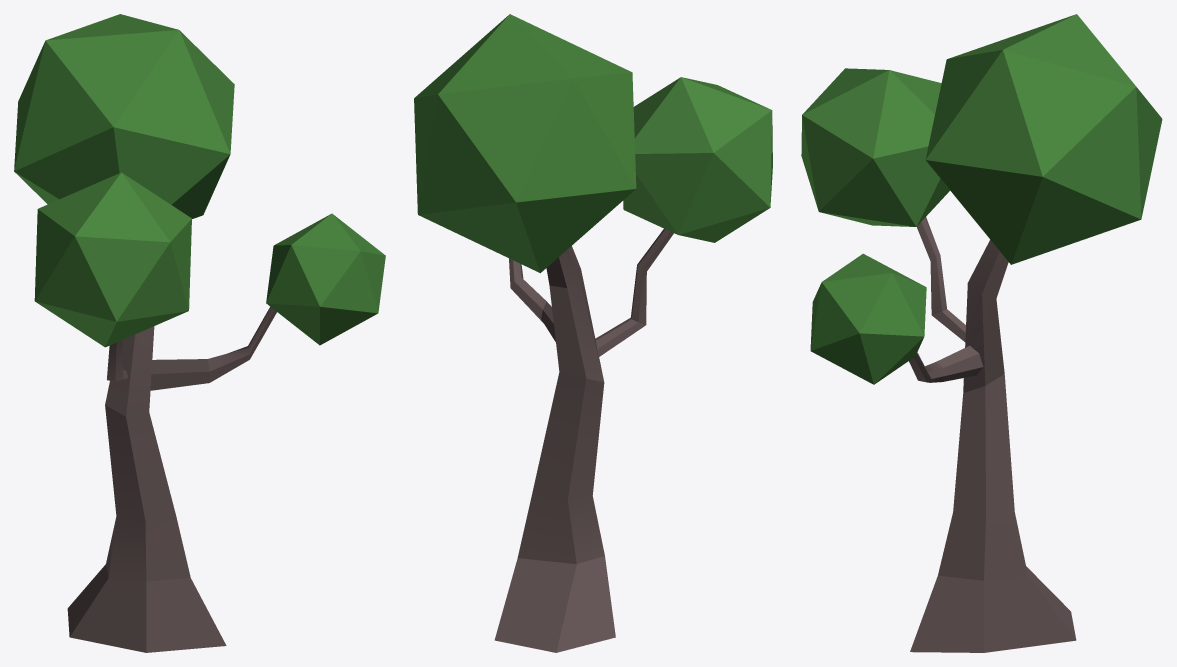
The model's file is Tree.fbx.
3 renders of one model, left to right at view 1: azimuth 30°, elevation 25°; view 2: azimuth 150°, elevation 25°; view 3: azimuth 270°, elevation 25°, orthographic. The views are drawn at different scales.
Parts seen in each view (by area): view 1: pCylinder4; view 2: pCylinder4; view 3: pCylinder4.
Boxes of the visible parts, box(x1,y1,x2,y2) form: pCylinder4: box(14, 14, 385, 652); pCylinder4: box(414, 14, 772, 652); pCylinder4: box(801, 14, 1162, 652).
Size of the model in its own units: 3422 by 5659 by 3080.
